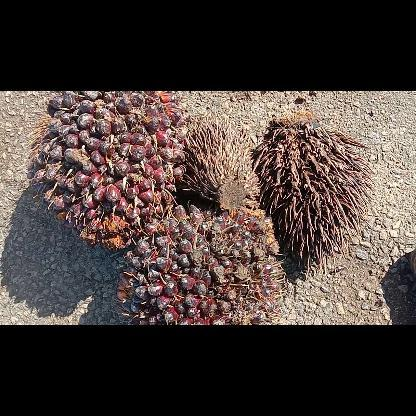Janjang kosong: (252, 116, 374, 276), (184, 112, 258, 210)
TBS mentah: (27, 91, 187, 251), (116, 204, 286, 324)
